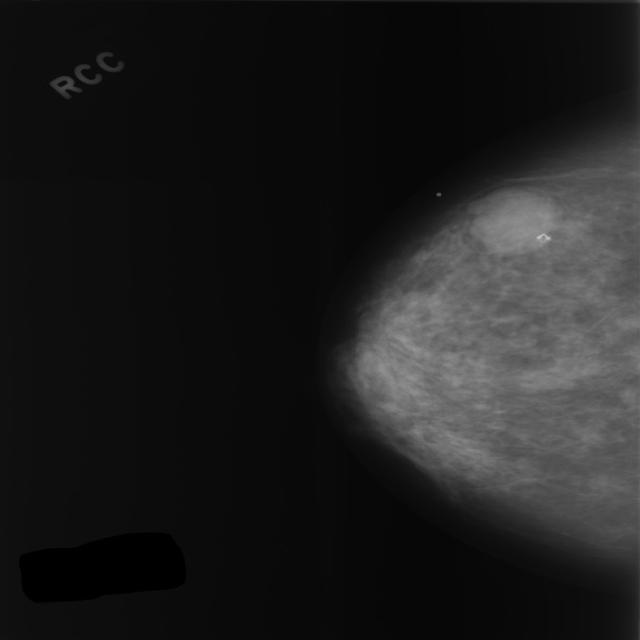tumour: (464, 185, 557, 253)
